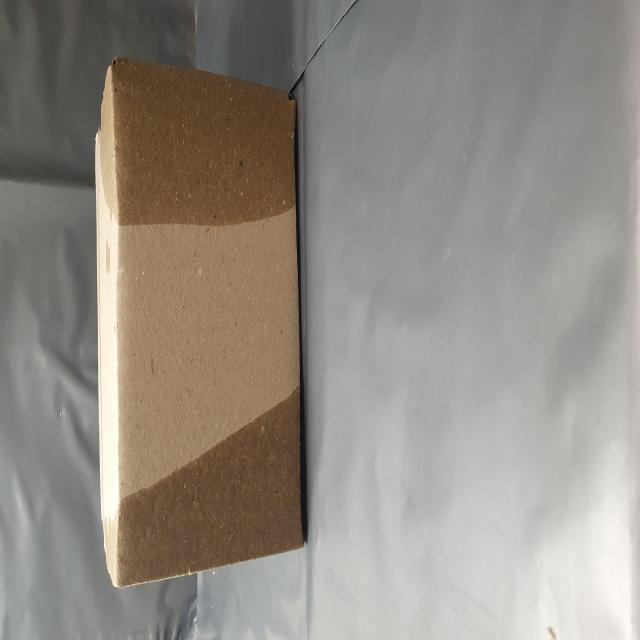wet: (31, 172, 138, 545), (223, 161, 328, 538)
